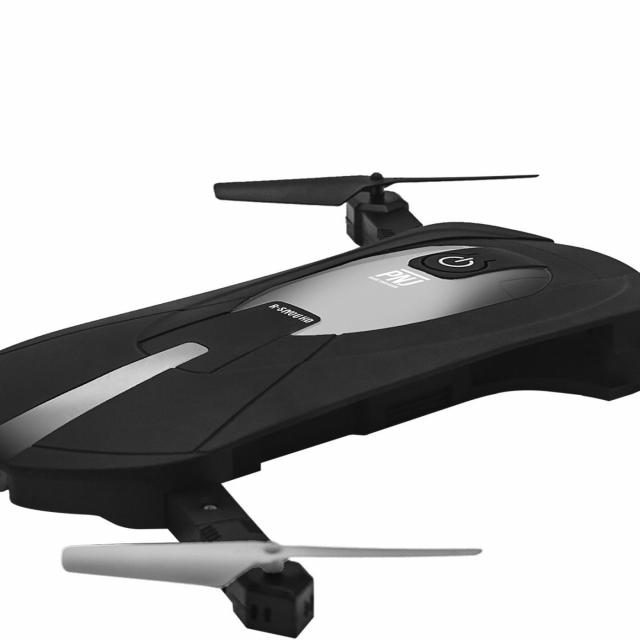drone: (0, 141, 640, 636)
